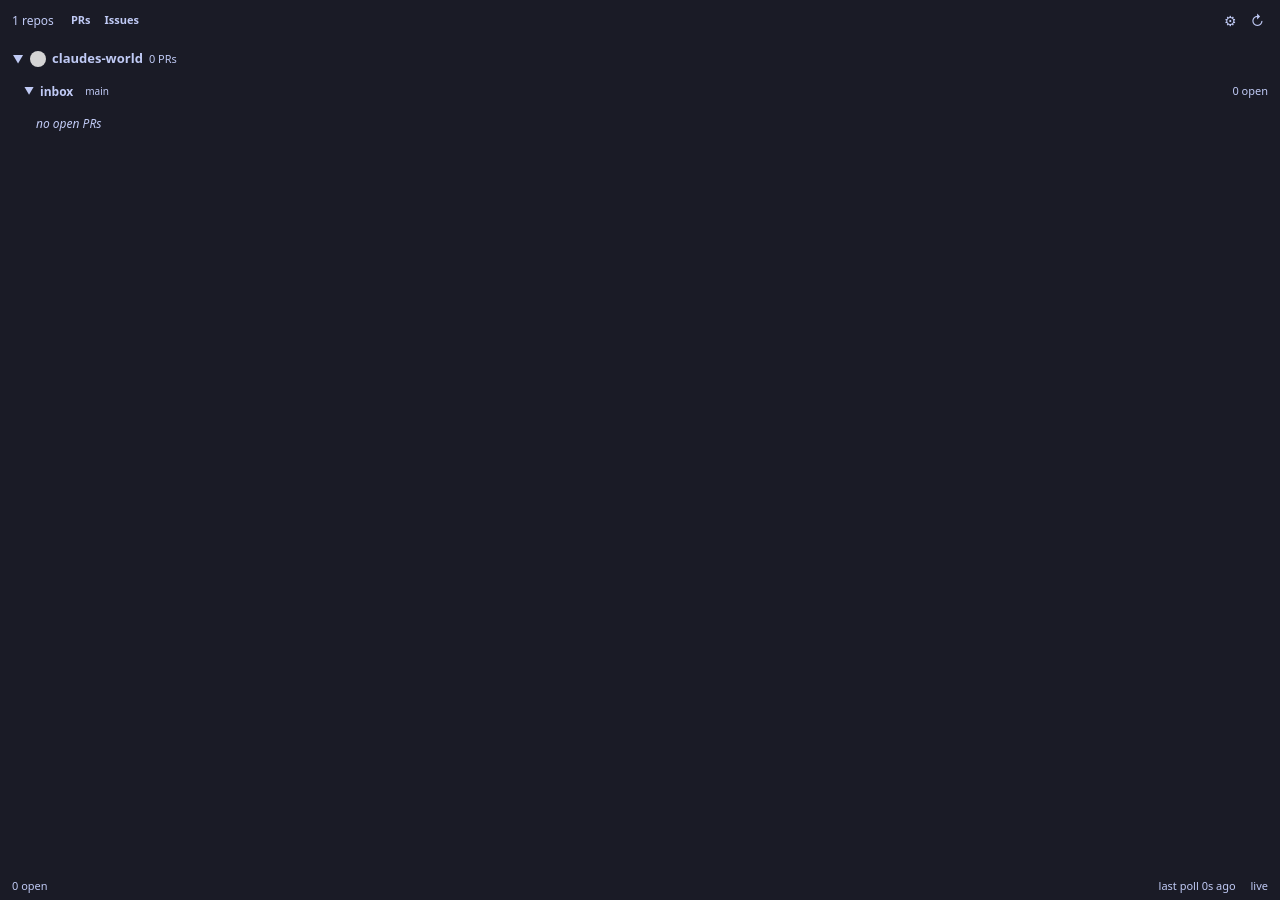
Test case: PrTicker › drops stale issue responses after a force refresh starts
This screenshot has width=1280, height=900.
Check: the text "inbox" is shown, box [40, 82, 73, 100]
Click the button "Issues". click: (122, 21)
box: [98, 9, 146, 32]
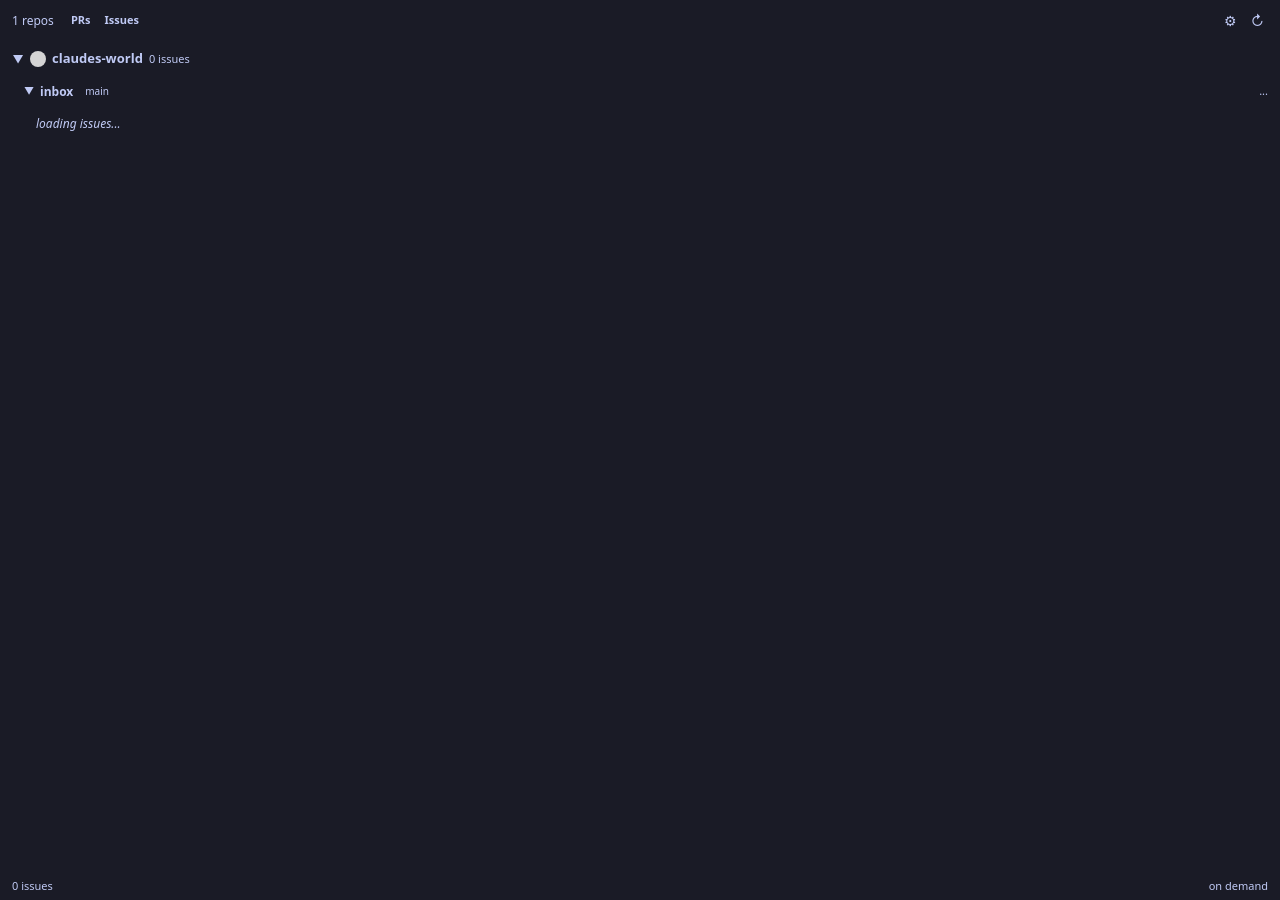
Click the button named "Refresh issues". click: (1257, 20)
box: [1247, 8, 1268, 33]
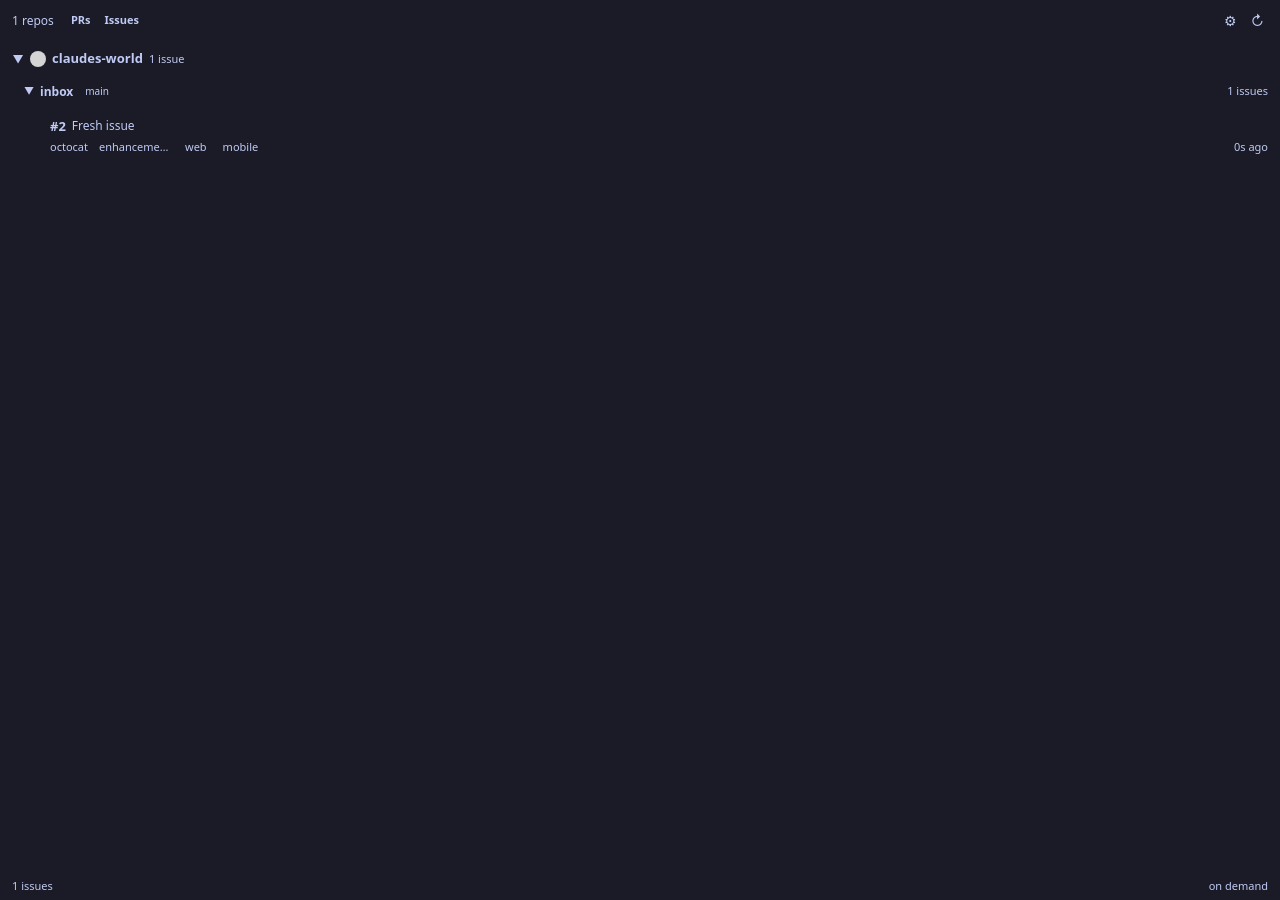
Check: the text "Fresh issue" is shown, box [72, 117, 135, 135]
